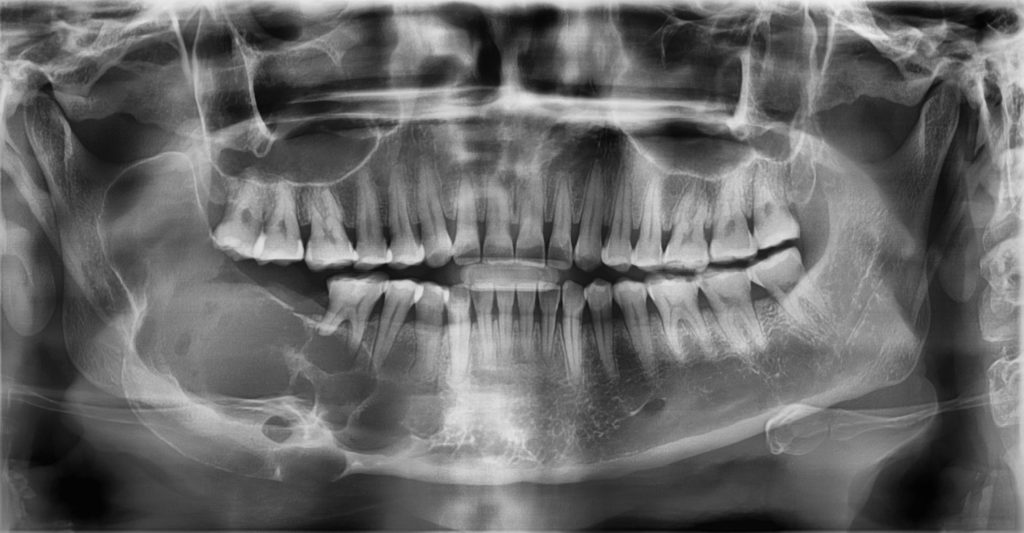canine: (402, 156, 456, 269), (434, 276, 475, 392), (570, 156, 608, 275), (556, 272, 588, 383)
incisor: (509, 157, 552, 274), (445, 164, 487, 280), (538, 162, 577, 278), (477, 163, 516, 273), (464, 269, 497, 374), (530, 269, 563, 372), (491, 271, 520, 372), (512, 270, 537, 370)
molar: (694, 258, 774, 367), (740, 244, 829, 334), (642, 264, 716, 371), (291, 167, 360, 279), (697, 152, 764, 266), (203, 153, 270, 265), (313, 269, 389, 367), (250, 167, 309, 277), (655, 164, 713, 273), (741, 154, 805, 247)
premolar: (374, 159, 429, 273), (610, 269, 663, 387), (346, 153, 398, 273), (368, 271, 425, 378), (405, 272, 449, 385), (579, 273, 622, 386), (629, 157, 666, 278), (600, 161, 634, 274)
